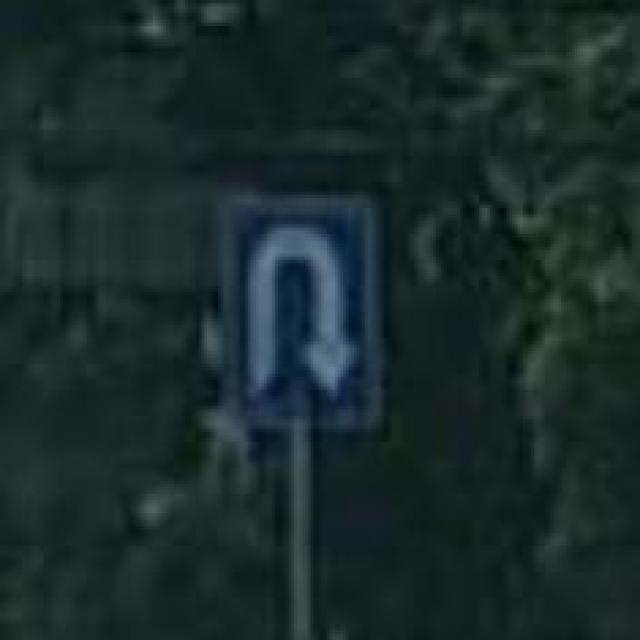traffic sign: (218, 195, 387, 432)
